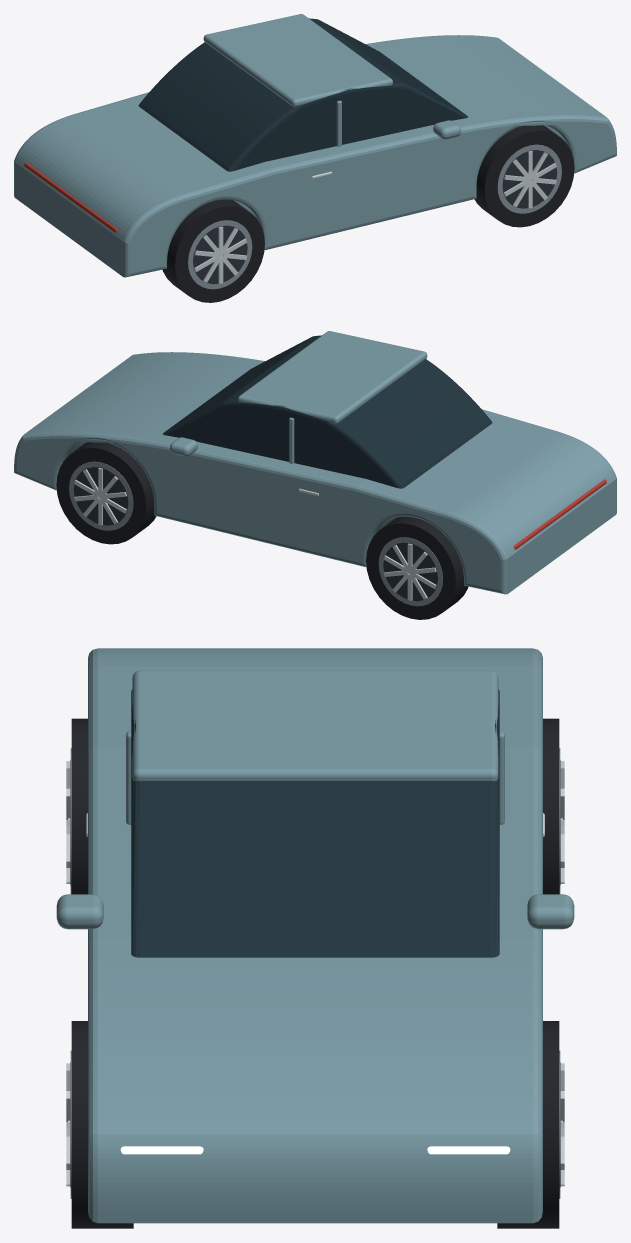
Rendered from concept-car.glb.
The picture shows the model from 3 angles, top to bottom: view 1: azimuth 30°, elevation 25°; view 2: azimuth 150°, elevation 25°; view 3: azimuth 270°, elevation 25°; orthographic projection. The views are drawn at different scales.
Size of the model in its own units: 4.6 by 1.5 by 2.09.
